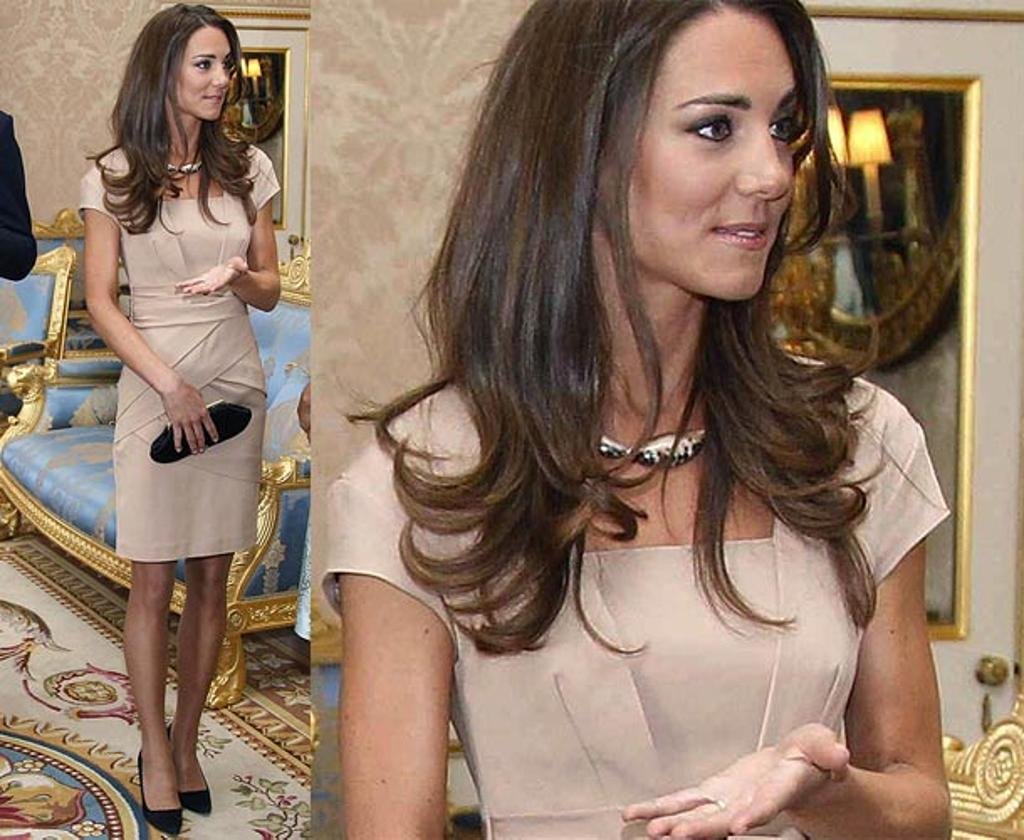face: (606, 16, 802, 302), (170, 26, 232, 118)
